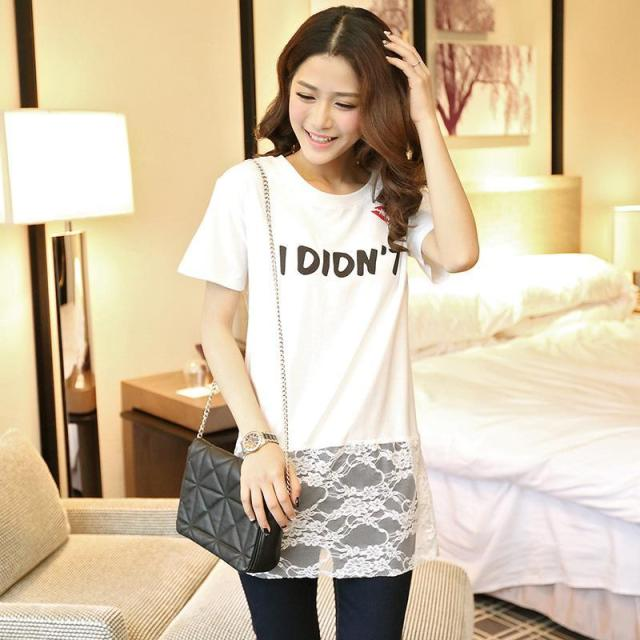short sleeve dress: (179, 158, 449, 576)
trousers: (235, 421, 416, 638)
